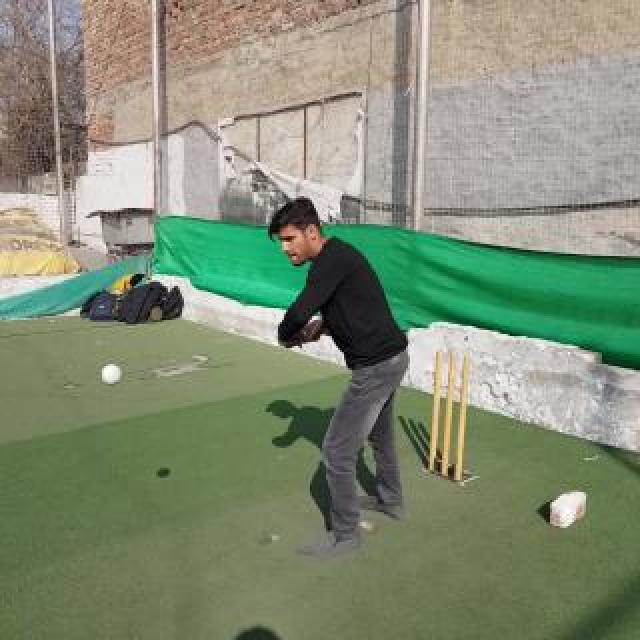ball: (102, 364, 124, 386)
